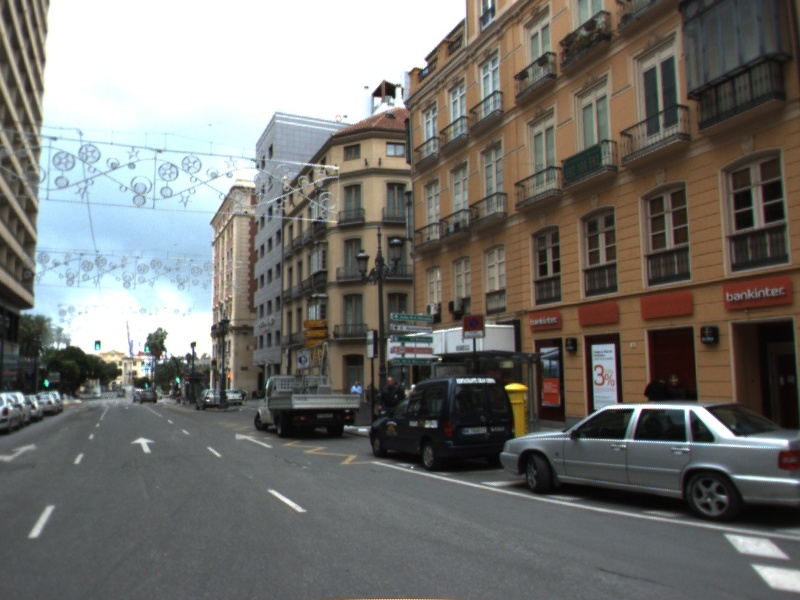STRAIGHT: (232, 431, 277, 451), (128, 435, 158, 455)
